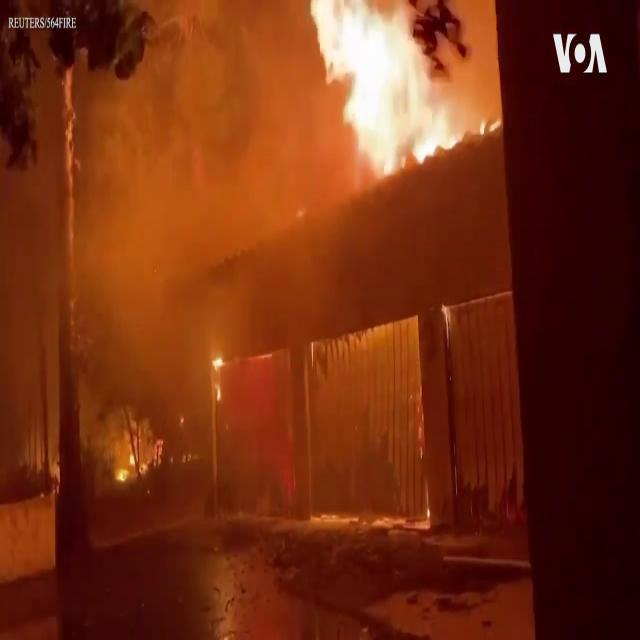Fire: (293, 2, 471, 175)
Smoke: (68, 5, 310, 415)
